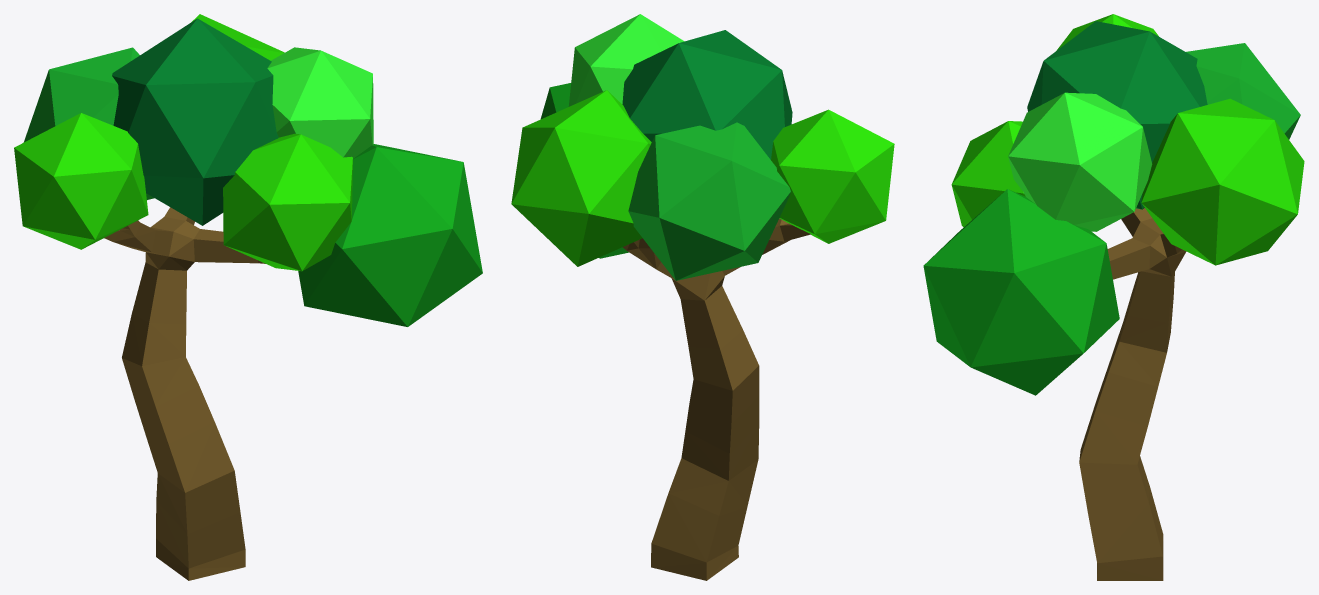
File: lolipopTree.dae
3 views of the same model, side by side, from view 1: azimuth 30°, elevation 25°; view 2: azimuth 150°, elevation 25°; view 3: azimuth 270°, elevation 25° (orthographic). The views are drawn at different scales.
Visible parts, largest first — view 1: trunk; view 2: trunk; view 3: trunk.
Part boxes in pixels (x1,y1,x2,y2): trunk: (14,14,482,580); trunk: (511,14,894,580); trunk: (923,14,1304,580).
Size of the model in its own units: 3.45 by 2.88 by 4.49.
